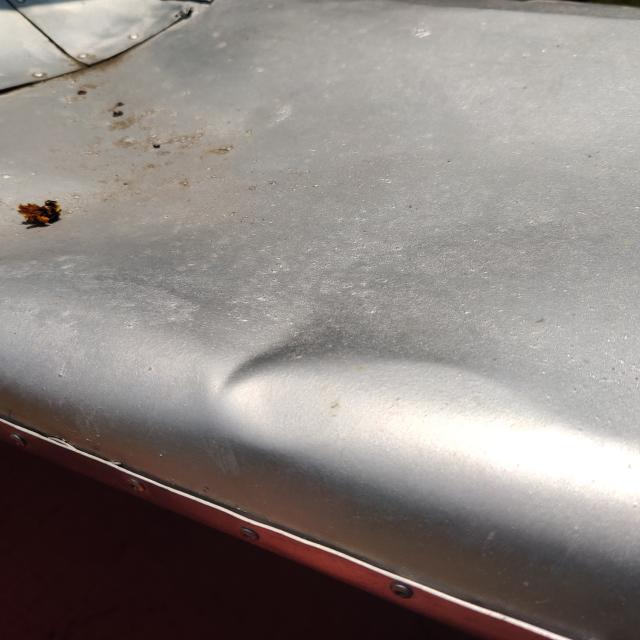dent: (192, 286, 348, 427)
